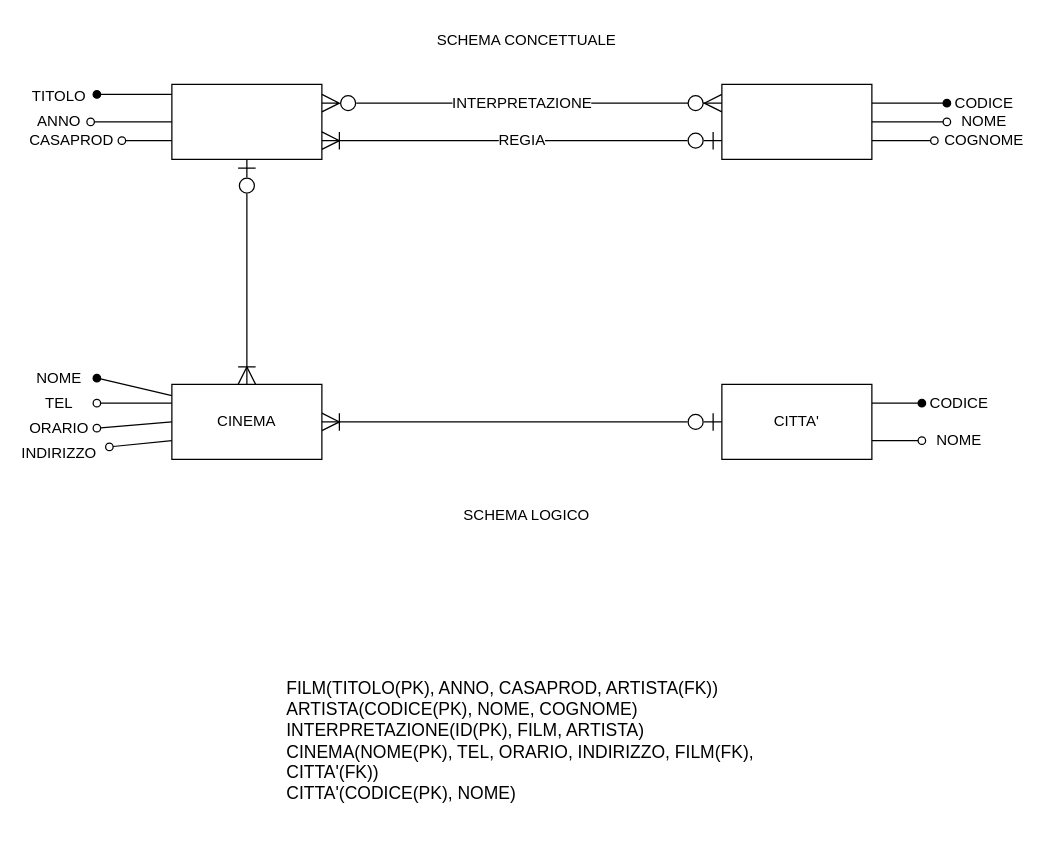
The diagram is 1045 pixels wide and 855 high, and some of its shapes have lost their labels. The shapes that lost their labels are listed below. From the top down, each one's centre as x and y in pixels, then its label:
At point (246, 121): "FILM".
At point (796, 121): "ARTISTA".
